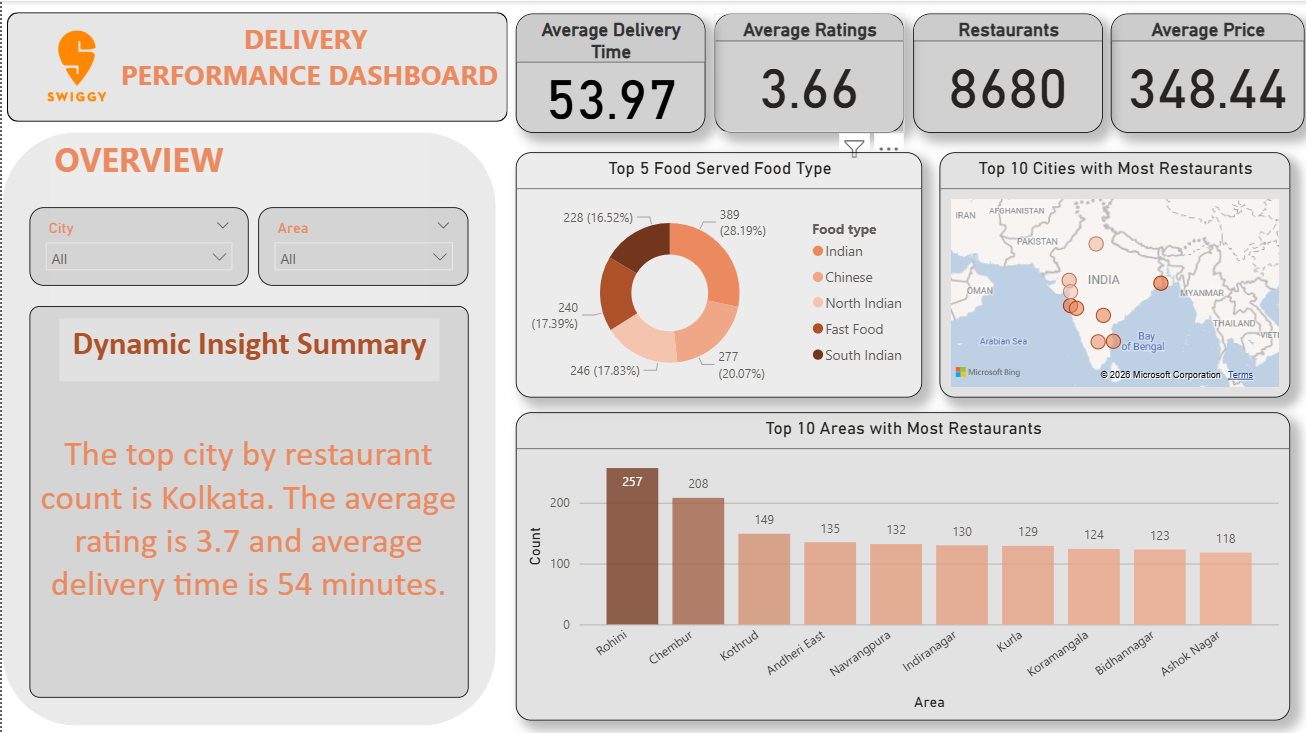

Layout of this report page (visuals, bound fields, positions):
{"tool":"powerbi","page":{"name":"Page 1","canvas":[1280,720],"ordinal":0},"visuals":[{"type":"card","title":"Average Ratings","fields":{"Values":["Avg(swiggy_Data.Avg ratings)"]},"box":[697.1,12.3,185.2,116.6],"z":0},{"type":"columnChart","title":"Top 10 Areas with Most Restaurants","fields":{"Category":["swiggy_Data.Area"],"Y":["CountNonNull(swiggy_Data.ID)"]},"box":[502.2,402.1,757.5,301.9],"z":1000},{"type":"donutChart","title":"Top 5 Food Served Food Type","fields":{"Category":["swiggy_Data.Food type"],"Y":["CountNonNull(swiggy_Data.ID)"]},"box":[502.2,148.2,397.9,240.1],"z":2000},{"type":"map","title":"Top 10 Cities with Most Restaurants","fields":{"Category":["swiggy_Data.City"]},"box":[916.6,148.2,343.1,240.1],"z":3000},{"type":"card","title":"Average Price","fields":{"Values":["Avg(swiggy_Data.Price)"]},"box":[1084.1,12.3,189.4,116.6],"z":4000},{"type":"card","title":"Restaurants","fields":{"Values":["CountNonNull(swiggy_Data.Restaurant)"]},"box":[891.9,12.3,185.2,116.6],"z":5000},{"type":"card","title":"Average Delivery Time ","fields":{"Values":["Avg(swiggy_Data.Delivery time)"]},"box":[502.2,12.3,185.2,116.6],"z":6000},{"type":"shape","box":[5.5,11,489.9,107],"z":7000},{"type":"image","box":[5.5,0,137.2,127.6],"z":8000},{"type":"textbox","box":[98.6,14.3,371.4,112.9],"z":9000},{"type":"shape","box":[0,129,483,580.4],"z":10000},{"type":"textbox","box":[46.7,129,370.5,168.8],"z":11000},{"type":"slicer","fields":{"Values":["swiggy_Data.City"]},"box":[27.4,201.7,214.1,76.8],"z":12000},{"type":"slicer","fields":{"Values":["swiggy_Data.Area"]},"box":[251.1,201.7,205.8,76.8],"z":13000},{"type":"card","title":"Dynamic Insight Summary","fields":{"Values":["swiggy_Data.Dynamic Insight Summary"]},"box":[27.4,297.8,429.5,382.8],"z":13001},{"type":"textbox","box":[56.3,310.1,371.9,61.7],"z":13002}]}

Visuals, with their boxes in screenshot pixels (x1, y1, x2, y2), scaled from the page's 1280x720 canvas onto the 1306x733 screenshot:
"Average Ratings" card: region(711, 13, 900, 131)
"Top 10 Areas with Most Restaurants" columnChart: region(512, 409, 1285, 717)
"Top 5 Food Served Food Type" donutChart: region(512, 151, 918, 395)
"Top 10 Cities with Most Restaurants" map: region(935, 151, 1285, 395)
"Average Price" card: region(1106, 13, 1299, 131)
"Restaurants" card: region(910, 13, 1099, 131)
"Average Delivery Time " card: region(512, 13, 701, 131)
shape: region(6, 11, 505, 120)
image: region(6, 0, 146, 130)
textbox: region(101, 15, 480, 129)
shape: region(0, 131, 493, 722)
textbox: region(48, 131, 426, 303)
slicer - swiggy_Data.City: region(28, 205, 246, 284)
slicer - swiggy_Data.Area: region(256, 205, 466, 284)
"Dynamic Insight Summary" card: region(28, 303, 466, 693)
textbox: region(57, 316, 437, 379)
